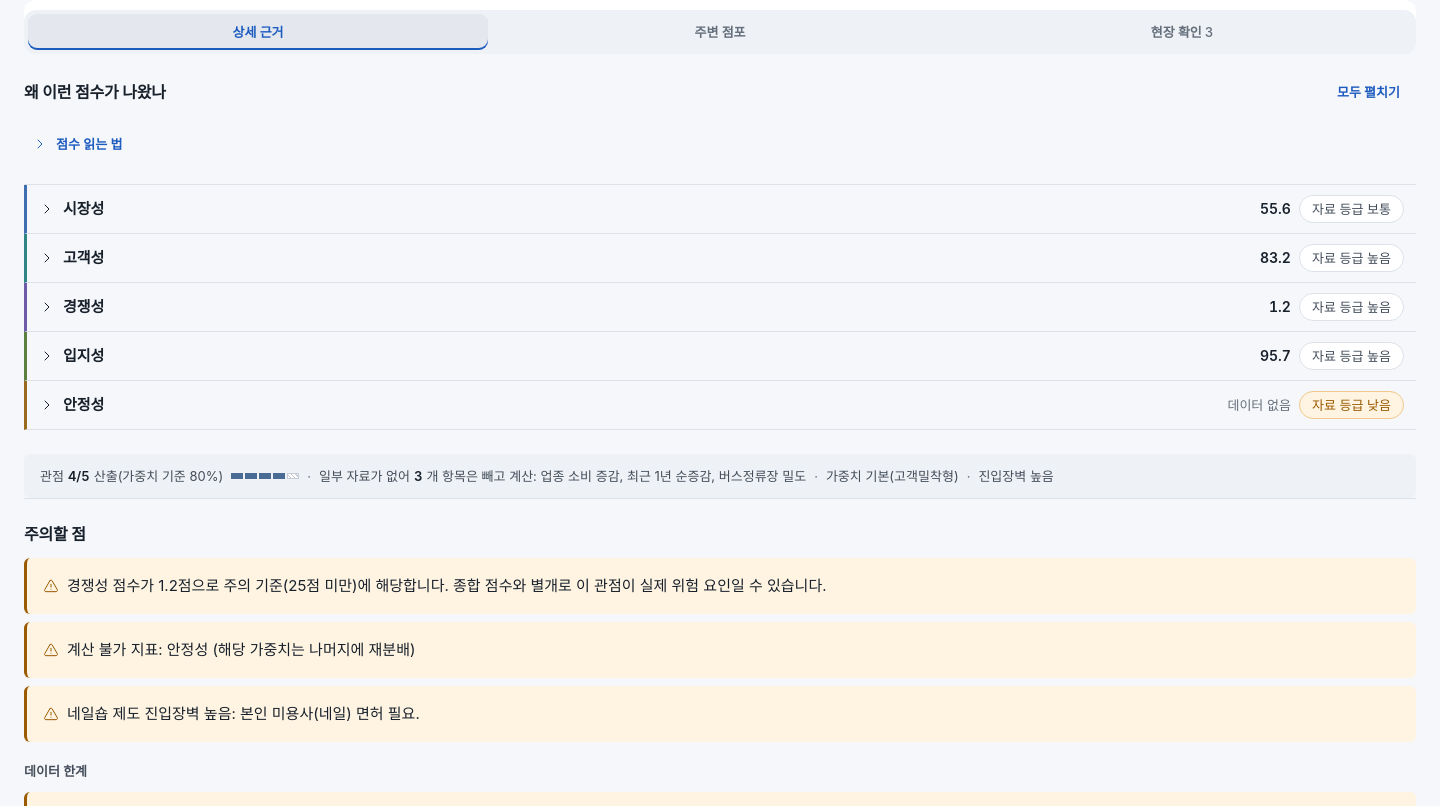
Scenario: AnalysisResult — 실제 /analyze 응답(부평역 · 네일숍): 안정성 미산출 + 병목 < 25 › 세부 분석에서도 미산출 안정성의 "계산했습니다" note 대신 coverage 기반 안내를 보여 준다
(page scrolled)
Click the button with id "detail-toggle-stability".
click(84, 405)  # box [27,382,1416,430]
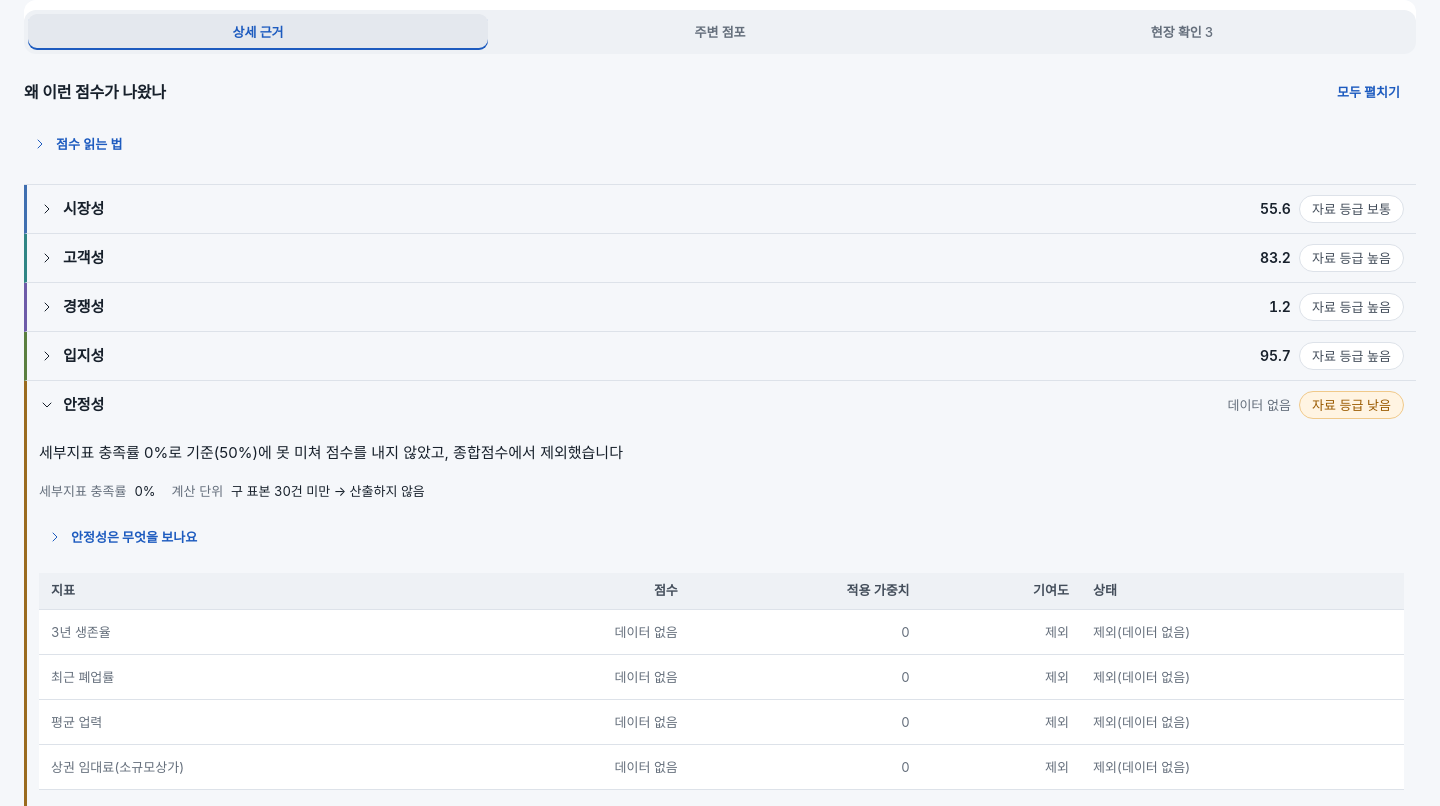
Result: the text "세부지표 충족률 0%로 기준(50%)에 못 미쳐 점수를 내지 않았고, 종합점수에서 제외했습니다" is shown 2 times
